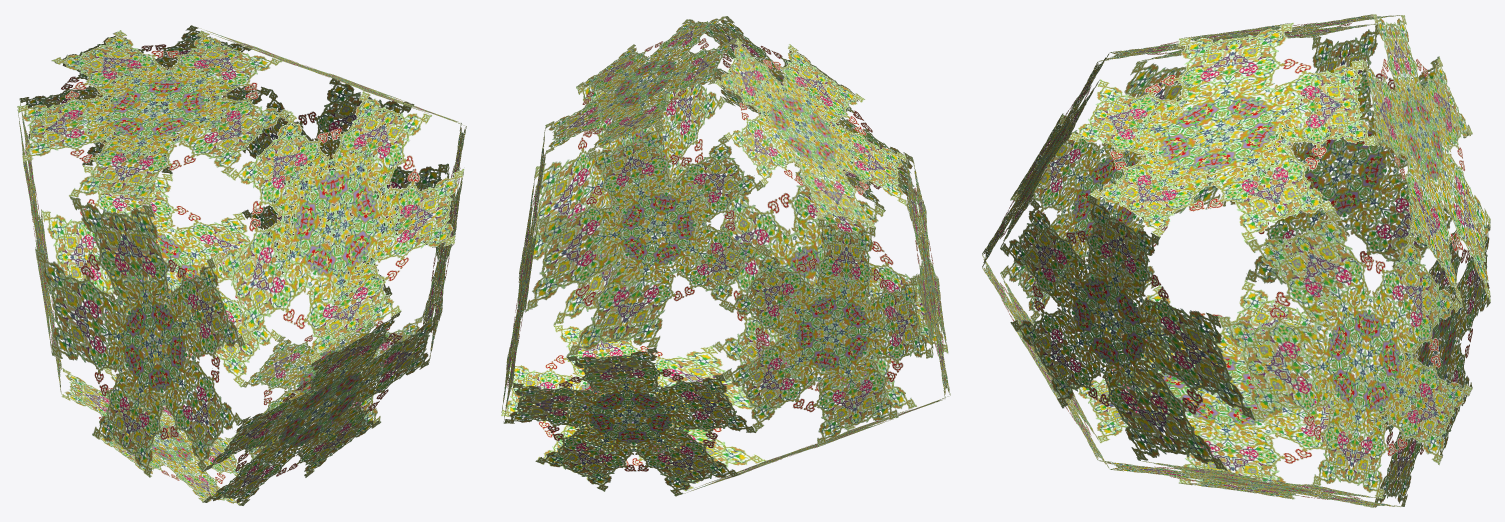
Rendered from Tetartoid9.obj.
3 renders of one model, left to right at view 1: azimuth 30°, elevation 25°; view 2: azimuth 150°, elevation 25°; view 3: azimuth 270°, elevation 25°, orthographic. The views are drawn at different scales.
Size of the model in its own units: 22 by 22 by 22.
Materials: 1 (1 with a texture image).
